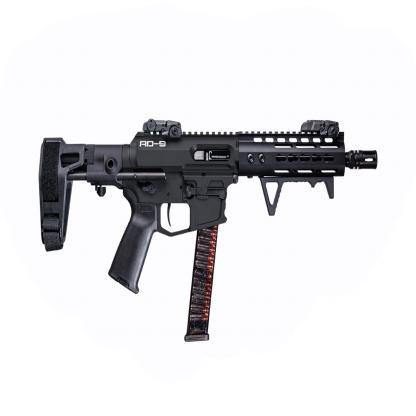Gun: (37, 118, 378, 340)
